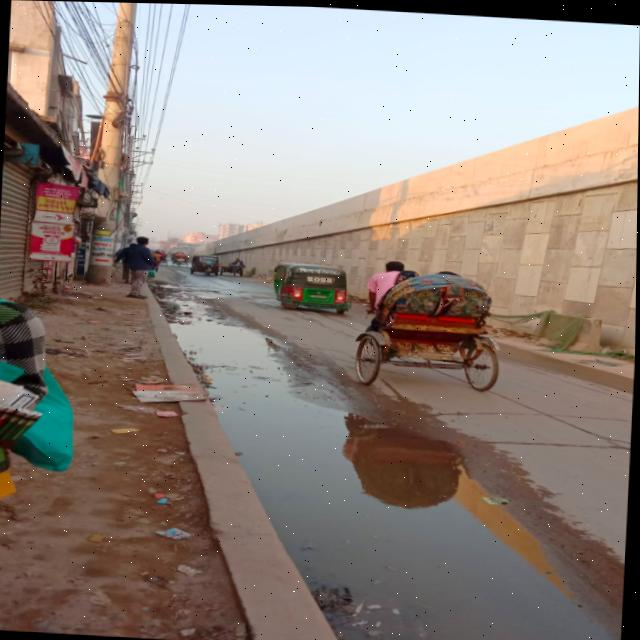cng: (239, 234, 356, 321)
rikshaw: (360, 247, 517, 404)
